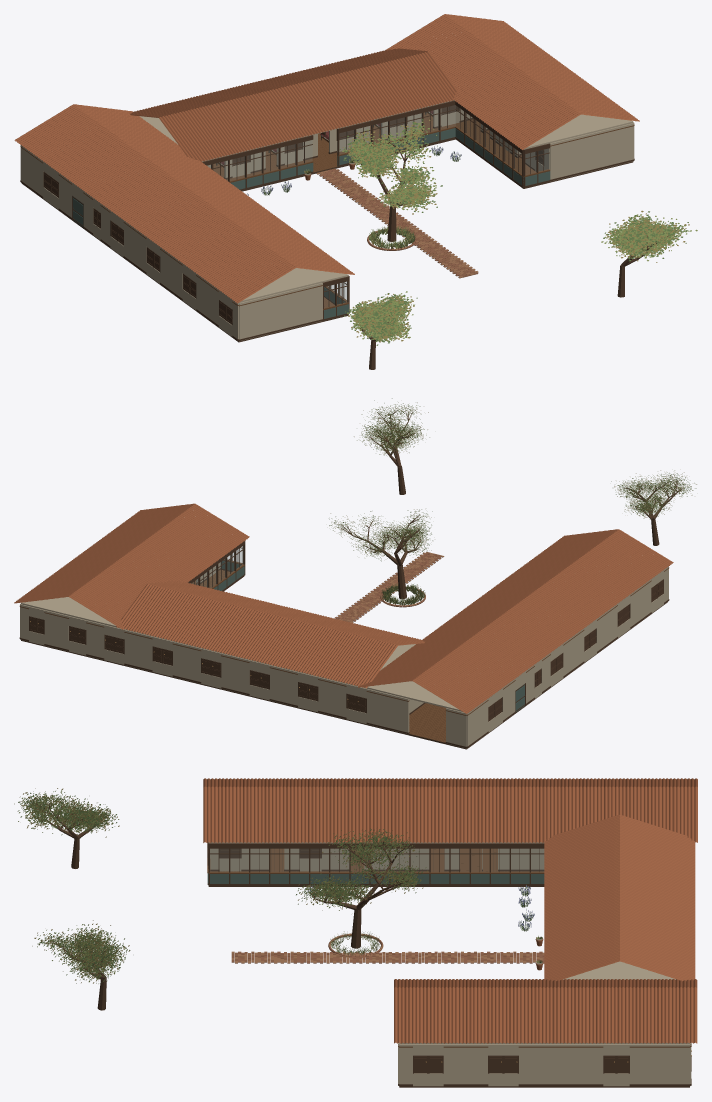
File: playa-ancha.glb
The picture shows the model from 3 angles, top to bottom: view 1: azimuth 30°, elevation 25°; view 2: azimuth 150°, elevation 25°; view 3: azimuth 270°, elevation 25°; orthographic projection. The views are drawn at different scales.
Parts seen in each view (by area): view 1: Tarimas, aleros y cubiertas · Tejuela de arcilla, Muros del plano · Cal envejecida, Galería cerrada · Carpintería nogal, Galería cerrada · Vidrio antiguo, Patio y jardín · Follaje 1, Patio y jardín · Follaje 0, Patio y jardín · Follaje 2, Muros del plano · Carpintería nogal, Tarimas, aleros y cubiertas · Cal envejecida, Galería cerrada · Óleo verde humo, Tarimas, aleros y cubiertas · Roble encerado, Patio - senderos, hierbas y alcorque · Ladrillo artesanal 1 (+6 smaller); view 2: Tarimas, aleros y cubiertas · Tejuela de arcilla, Muros del plano · Cal envejecida, Muros del plano · Carpintería nogal, Tarimas, aleros y cubiertas · Cal envejecida, Patio y jardín · Carpintería nogal, Patio y jardín · Follaje 0, Patio y jardín · Follaje 1, Patio y jardín · Follaje 2, Tarimas, aleros y cubiertas · Roble encerado, Tarimas, aleros y cubiertas · Carpintería nogal, Galería cerrada · Carpintería nogal, Patio - senderos, hierbas y alcorque · Ladrillo artesanal 1 (+4 smaller); view 3: Tarimas, aleros y cubiertas · Tejuela de arcilla, Muros del plano · Cal envejecida, Galería cerrada · Vidrio antiguo, Patio y jardín · Follaje 1, Patio y jardín · Follaje 2, Patio y jardín · Follaje 0, Galería cerrada · Carpintería nogal, Muros del plano · Carpintería nogal, Galería cerrada · Óleo verde humo, Patio y jardín · Carpintería nogal, Tarimas, aleros y cubiertas · Cal envejecida, Tarimas, aleros y cubiertas · Roble encerado (+6 smaller).
Boxes of the visible parts, x1,y1,x2,y2 form: Tarimas, aleros y cubiertas · Tejuela de arcilla: (14, 14, 639, 303); Muros del plano · Cal envejecida: (20, 108, 634, 341); Galería cerrada · Carpintería nogal: (202, 100, 550, 320); Galería cerrada · Vidrio antiguo: (208, 105, 549, 307); Patio y jardín · Follaje 1: (342, 121, 697, 341); Patio y jardín · Follaje 0: (339, 118, 688, 345); Patio y jardín · Follaje 2: (342, 119, 689, 342); Muros del plano · Carpintería nogal: (20, 105, 634, 340); Tarimas, aleros y cubiertas · Cal envejecida: (139, 100, 633, 302); Galería cerrada · Óleo verde humo: (231, 128, 550, 318); Tarimas, aleros y cubiertas · Roble encerado: (213, 112, 535, 307); Patio - senderos, hierbas y alcorque · Ladrillo artesanal 1: (316, 170, 478, 278); Tarimas, aleros y cubiertas · Tejuela de arcilla: (14, 503, 673, 713); Muros del plano · Cal envejecida: (20, 562, 668, 748); Muros del plano · Carpintería nogal: (19, 568, 669, 747); Tarimas, aleros y cubiertas · Cal envejecida: (21, 597, 462, 711); Patio y jardín · Carpintería nogal: (340, 410, 682, 599); Patio y jardín · Follaje 0: (329, 398, 696, 561); Patio y jardín · Follaje 1: (330, 402, 691, 559); Patio y jardín · Follaje 2: (330, 402, 696, 558); Tarimas, aleros y cubiertas · Roble encerado: (191, 569, 445, 742); Tarimas, aleros y cubiertas · Carpintería nogal: (21, 576, 667, 749); Galería cerrada · Carpintería nogal: (188, 540, 245, 591); Patio - senderos, hierbas y alcorque · Ladrillo artesanal 1: (337, 552, 444, 622); Tarimas, aleros y cubiertas · Tejuela de arcilla: (203, 778, 697, 1043); Muros del plano · Cal envejecida: (210, 848, 691, 1086); Galería cerrada · Vidrio antiguo: (210, 849, 543, 871); Patio y jardín · Follaje 1: (18, 790, 430, 983); Patio y jardín · Follaje 2: (14, 788, 427, 983); Patio y jardín · Follaje 0: (18, 791, 423, 983); Galería cerrada · Carpintería nogal: (207, 842, 544, 885); Muros del plano · Carpintería nogal: (207, 848, 691, 1086); Galería cerrada · Óleo verde humo: (207, 873, 544, 885); Patio y jardín · Carpintería nogal: (32, 802, 408, 1010); Tarimas, aleros y cubiertas · Cal envejecida: (208, 842, 689, 1043); Tarimas, aleros y cubiertas · Roble encerado: (210, 848, 543, 871).
Size of what is drawn, in the model's own units: 46.8 by 8.84 by 51.16.
